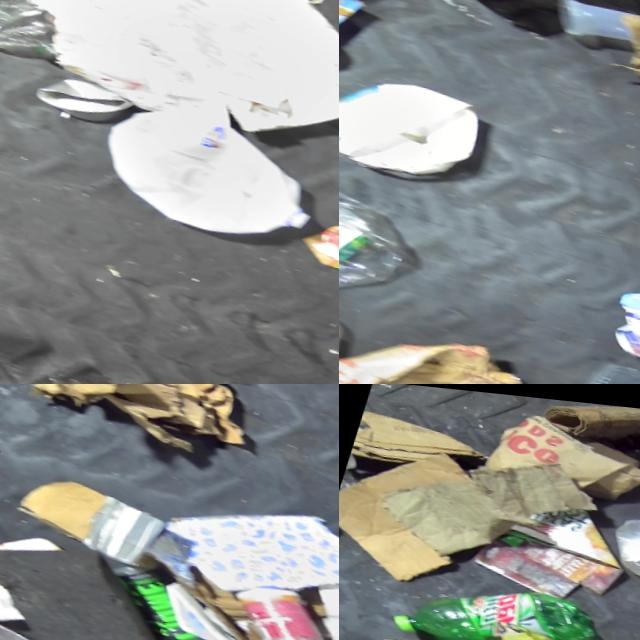can: (230, 565, 339, 640), (36, 63, 147, 129), (610, 273, 640, 358)
milk_jug: (96, 67, 339, 252), (339, 57, 493, 189)
plastic_bottle: (382, 582, 479, 640)
